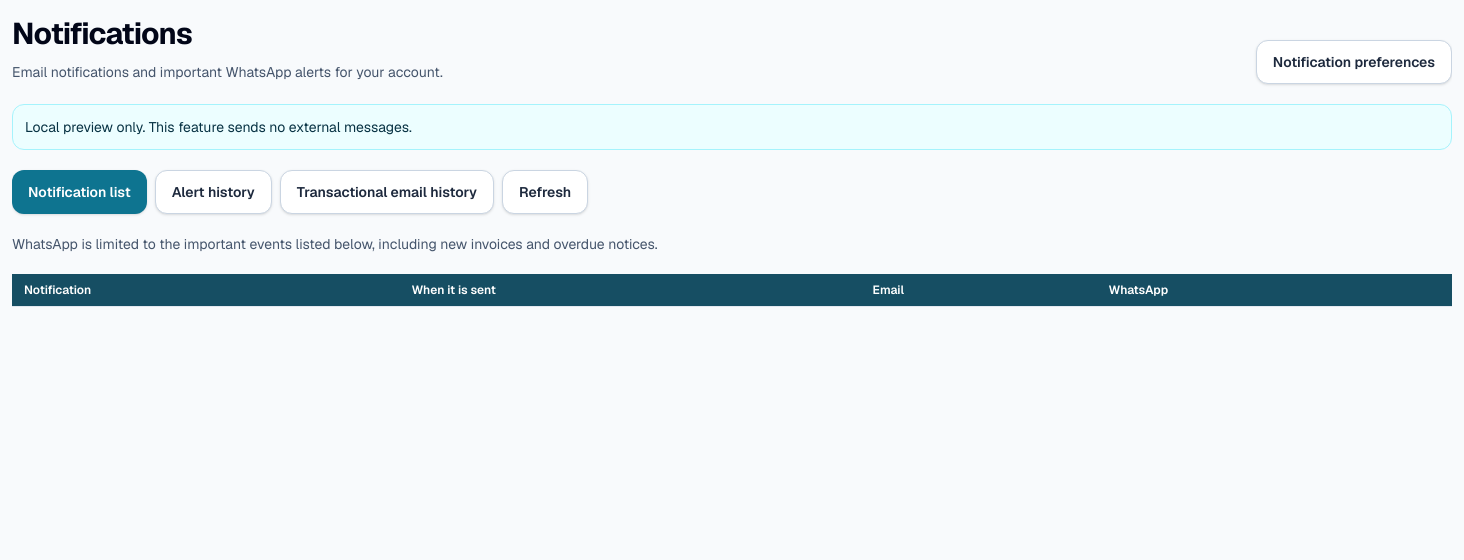
Test case: notification interfaces › loads paginated account history and filters WhatsApp without claiming previews were delivered
This screenshot has width=1464, height=560.
Click the button "Alert history" at {"x": 213, "y": 192}, box [155,170,272,214]
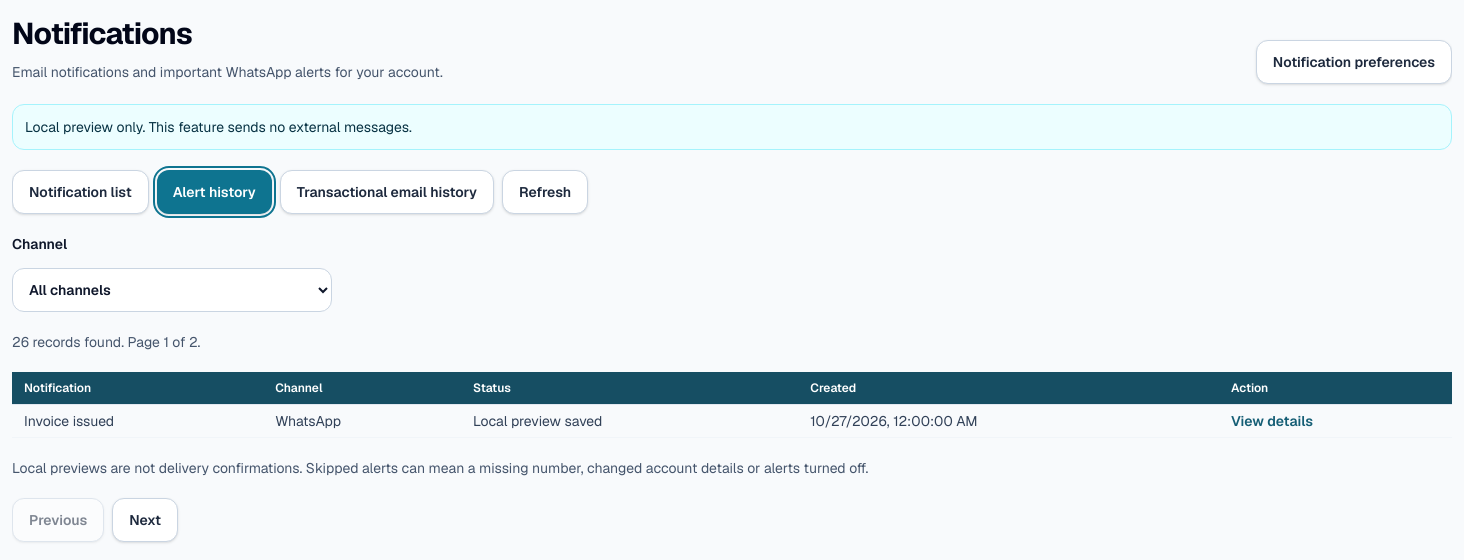
Check: the cell "Local preview saved" is shown, box [461,405,798,438]
Select "WhatsApp" in the dropdown labelled "Channel" at {"x": 172, "y": 290}, box [12,268,332,312]
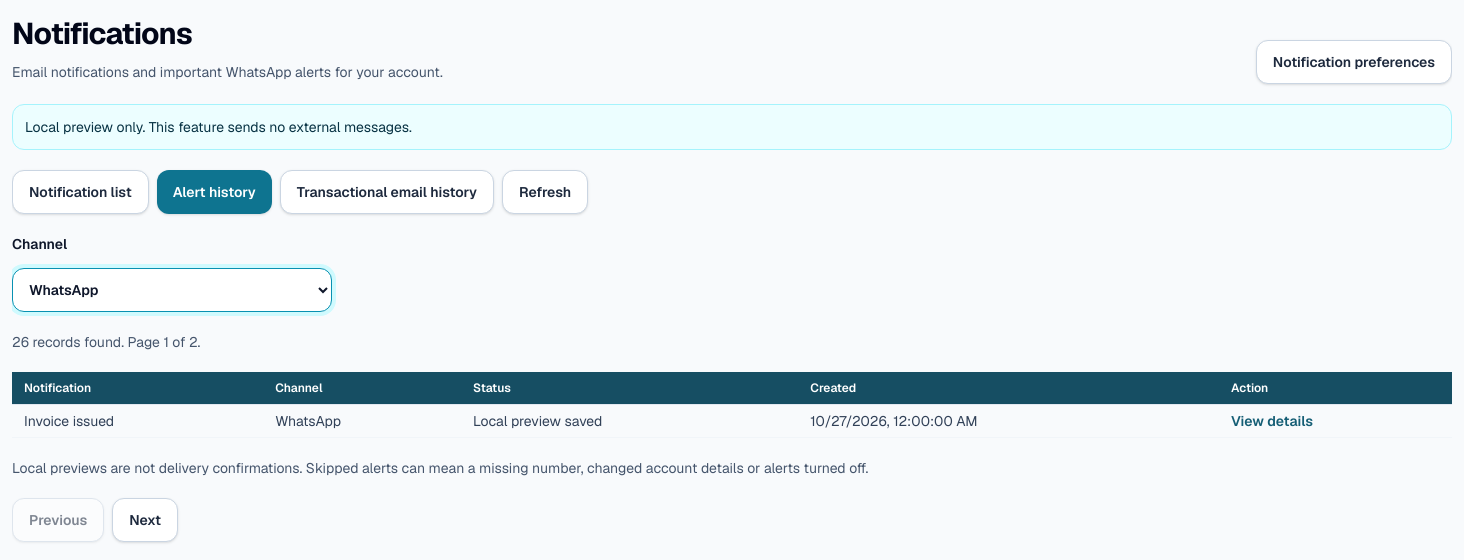
Check: the text "26 records found. Page 1 of 2." is shown, box [12,333,200,351]
Click the button "Next" at {"x": 145, "y": 520}, box [112,498,178,542]
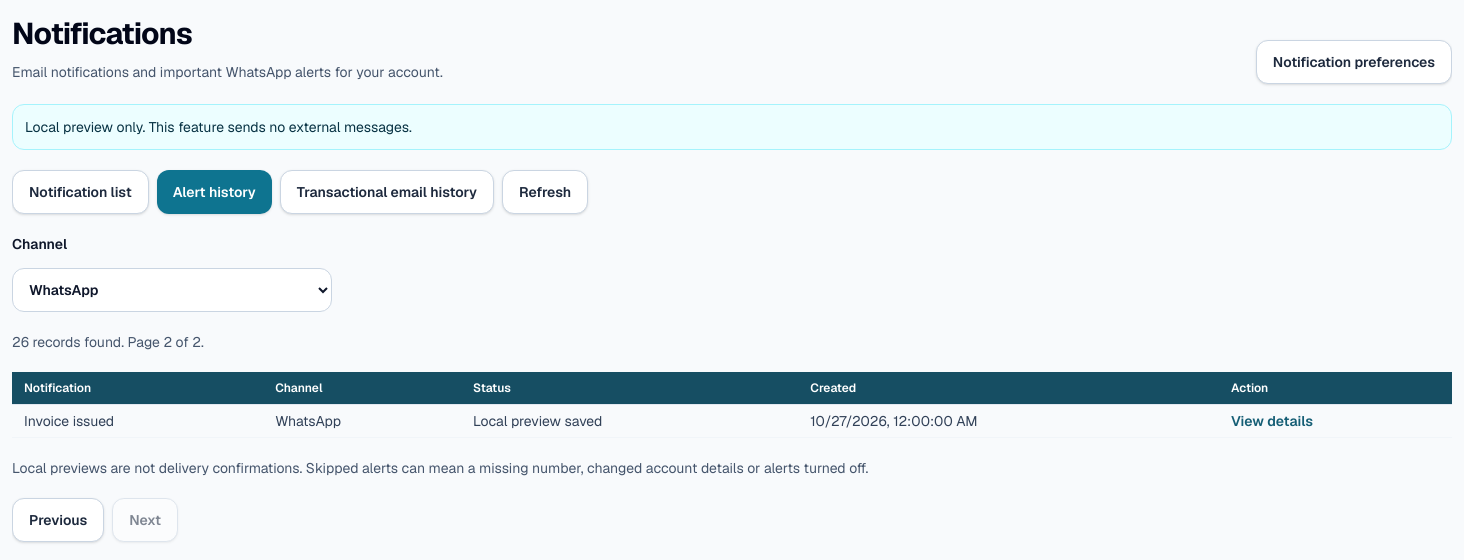
Check: the column heading "sent" is not shown
Check: the text "26 records found. Page 2 of 2." is shown, box [12,333,204,351]
